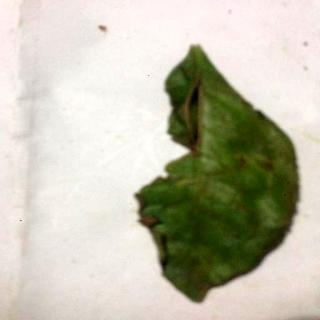Red Leaf Spot: (135, 47, 302, 297)
